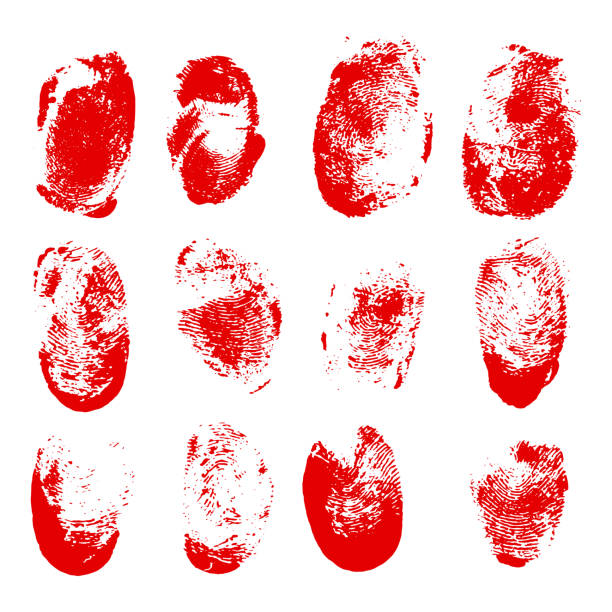blood: (307, 23, 435, 222), (456, 30, 587, 221), (24, 44, 138, 223), (169, 234, 288, 397), (30, 239, 138, 412), (16, 423, 136, 578), (473, 231, 574, 413), (295, 418, 408, 579), (159, 44, 266, 213), (173, 417, 275, 578), (315, 255, 430, 395), (464, 435, 571, 569)
